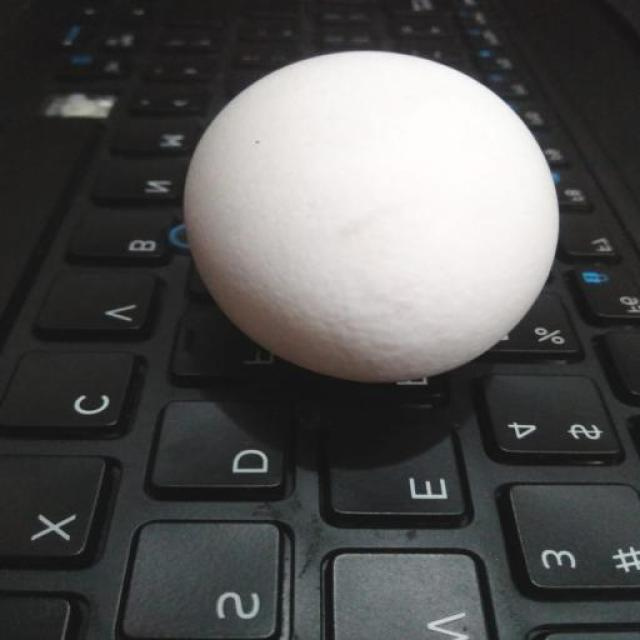telur: (179, 43, 566, 395)
